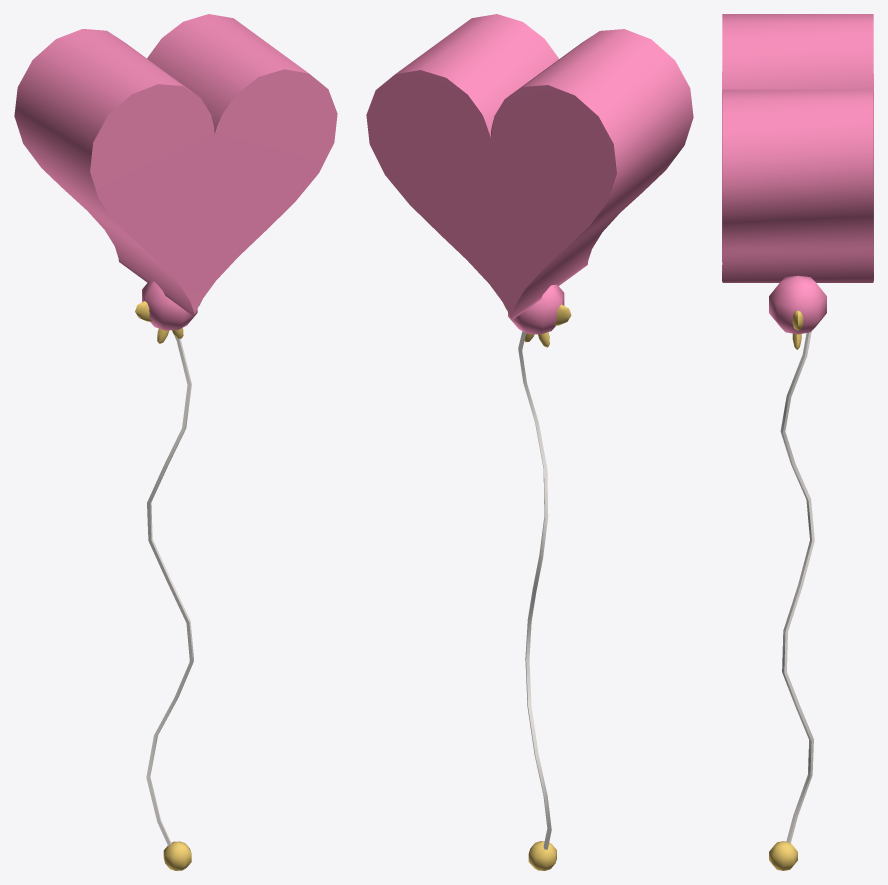
The model's file is balloon_heart.glb.
The picture shows the model from 3 angles, left to right: view 1: azimuth 30°, elevation 25°; view 2: azimuth 150°, elevation 25°; view 3: azimuth 270°, elevation 25°; orthographic projection.
Visible parts, largest first — view 1: balloon_heart; view 2: balloon_heart; view 3: balloon_heart.
Part boxes in pixels (<box>): balloon_heart: <box>14,14,337,870</box>; balloon_heart: <box>366,14,693,870</box>; balloon_heart: <box>722,14,873,870</box>.
Bounding box in the file's own units: 0.9422 × 2.98 × 0.4997.
